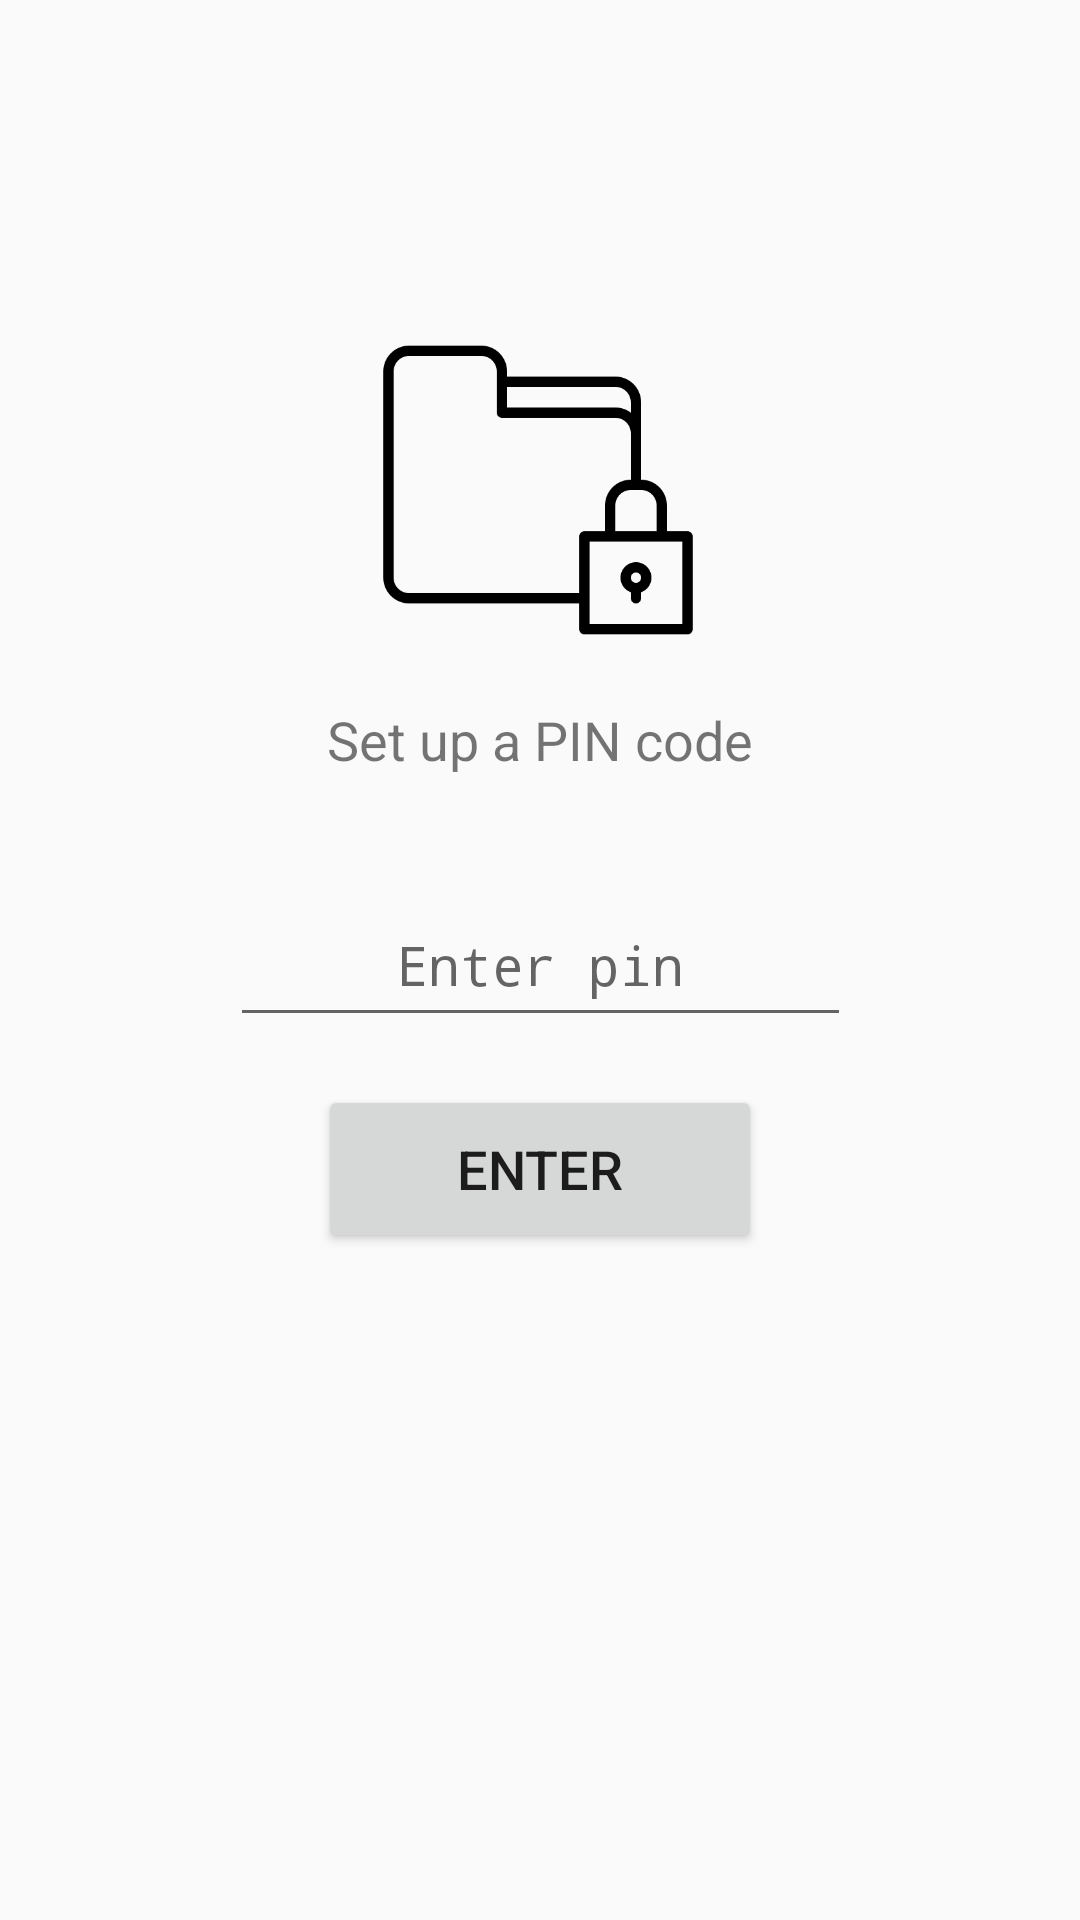

Named icons in this screenshot (1080×1920) and their centers, [x,y]:
folder: [538,490]
